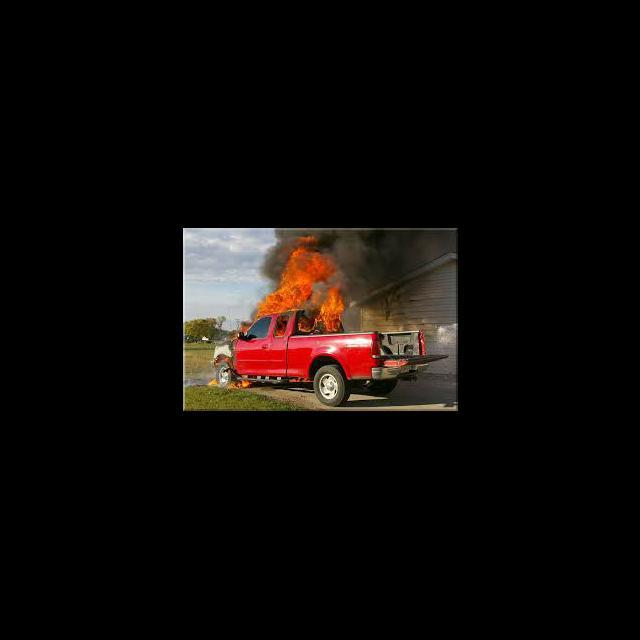Fire: (252, 238, 336, 323), (296, 282, 342, 334), (206, 374, 248, 392)
Smoke: (345, 232, 425, 302), (258, 231, 299, 282), (319, 229, 342, 254)
